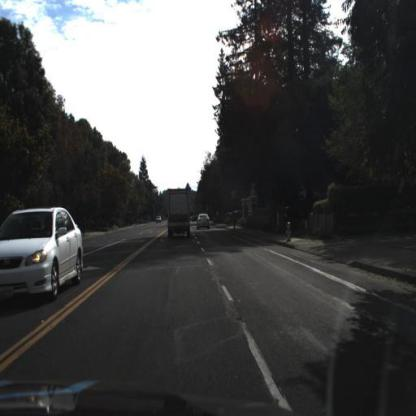car: (1, 208, 85, 304), (195, 211, 212, 233)
truck: (166, 188, 193, 240)
